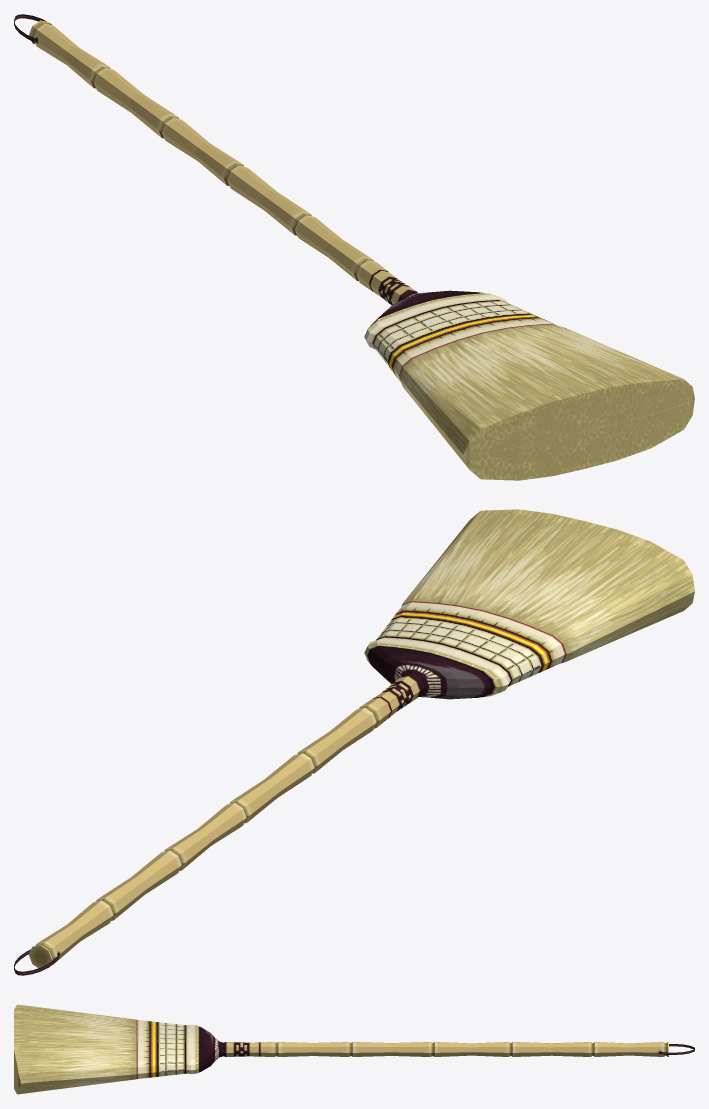
File: Weapon_5pb5.obj
3 renders of one model, top to bottom at view 1: azimuth 30°, elevation 25°; view 2: azimuth 150°, elevation 25°; view 3: azimuth 270°, elevation 25°, orthographic. The views are drawn at different scales.
Parts seen in each view (by area): view 1: Weapon_5pb_5; view 2: Weapon_5pb_5; view 3: Weapon_5pb_5.
Part boxes in pixels (<box>): Weapon_5pb_5: <box>14,14,694,480</box>; Weapon_5pb_5: <box>14,509,694,975</box>; Weapon_5pb_5: <box>14,1004,694,1094</box>.
Bounding box in the file's own units: 8.11 × 2.53 × 34.33.
1 material, 1 textured.
